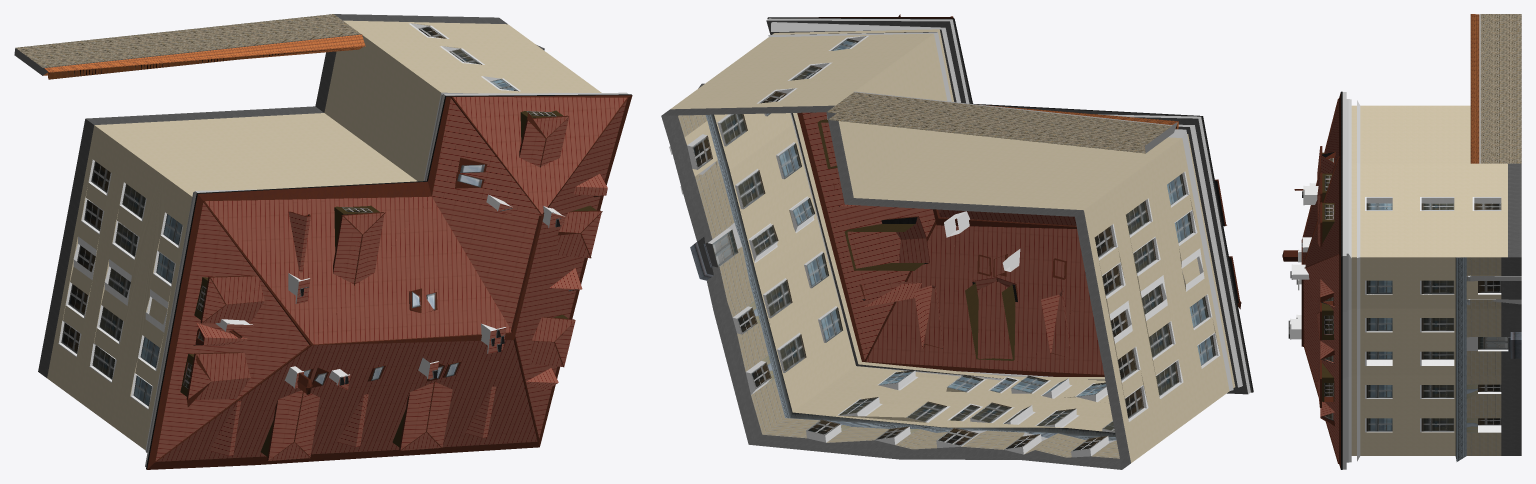
Rendered from Lai_15-origo.obj.
3 views of the same model, side by side, from view 1: azimuth 30°, elevation 25°; view 2: azimuth 150°, elevation 25°; view 3: azimuth 270°, elevation 25° (orthographic). The views are drawn at different scales.
Parts seen in each view (by area): view 1: Lai_15; view 2: Lai_15; view 3: Lai_15.
Part boxes in pixels (left/top/right/bottom): Lai_15: left=14, top=14, right=632, bottom=469; Lai_15: left=661, top=14, right=1253, bottom=469; Lai_15: left=1282, top=14, right=1521, bottom=469.
Bounding box in the file's own units: 35.56 × 28 × 19.73.
